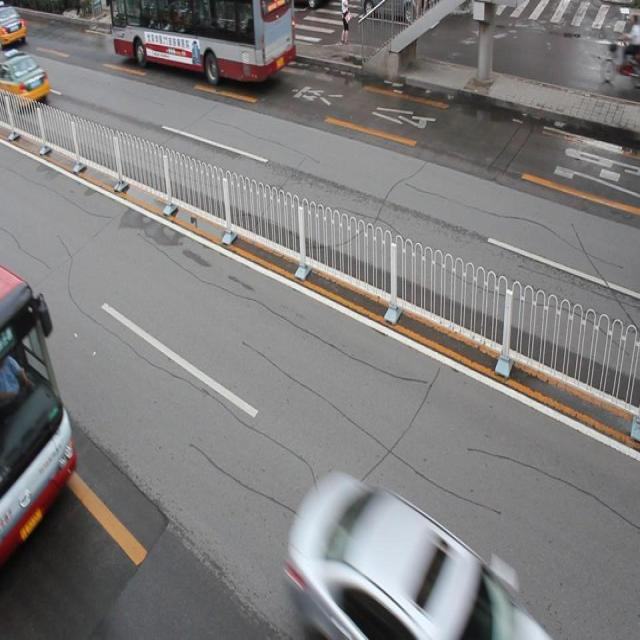car: (289, 468, 551, 640), (1, 49, 52, 111), (1, 1, 28, 46)
van: (1, 266, 78, 558), (109, 1, 292, 86)
